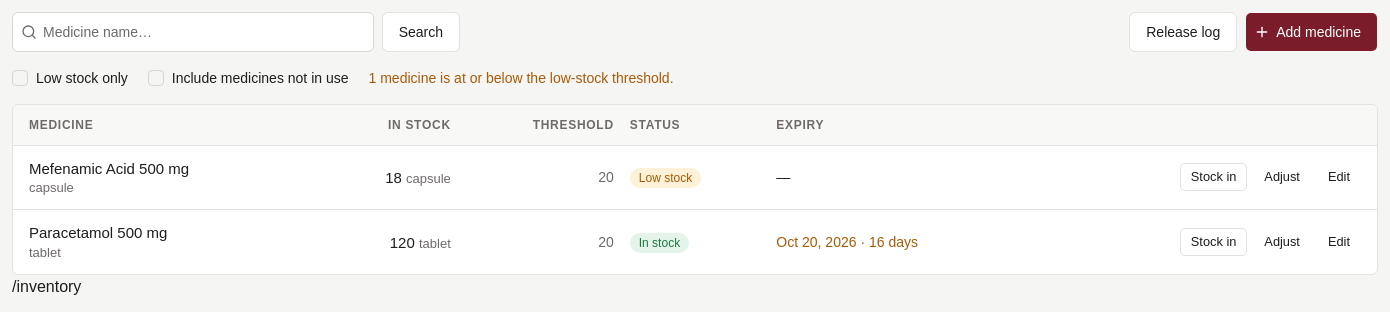
Test case: filters by low stock through the server and keeps the filter in the address
This screenshot has width=1390, height=312.
Expected: the text "Paracetamol 500 mg" is shown, [29,224,167,242]
Click the checkbox next to "Low stock only".
click(20, 78)  # box [12,70,28,86]
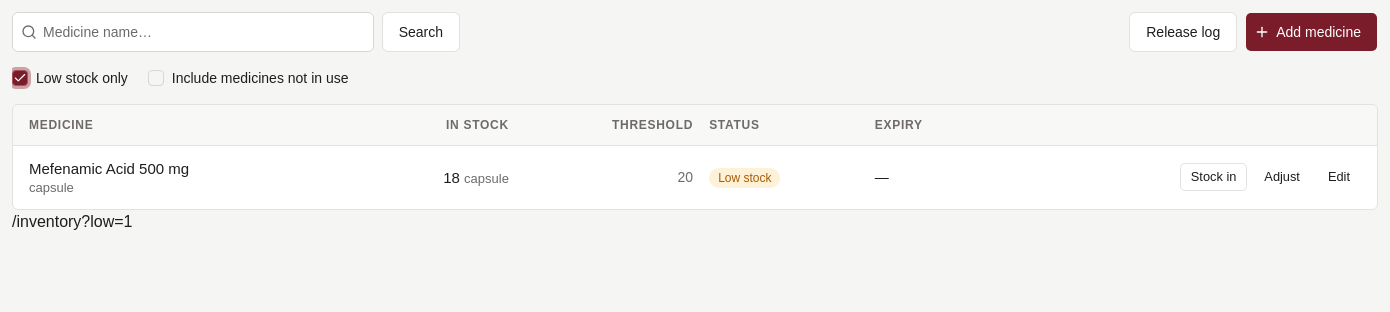
Now the text "Paracetamol 500 mg" is gone
Now the text with test id "address" reads "/inventory?low=1", box [12,214,132,230]
